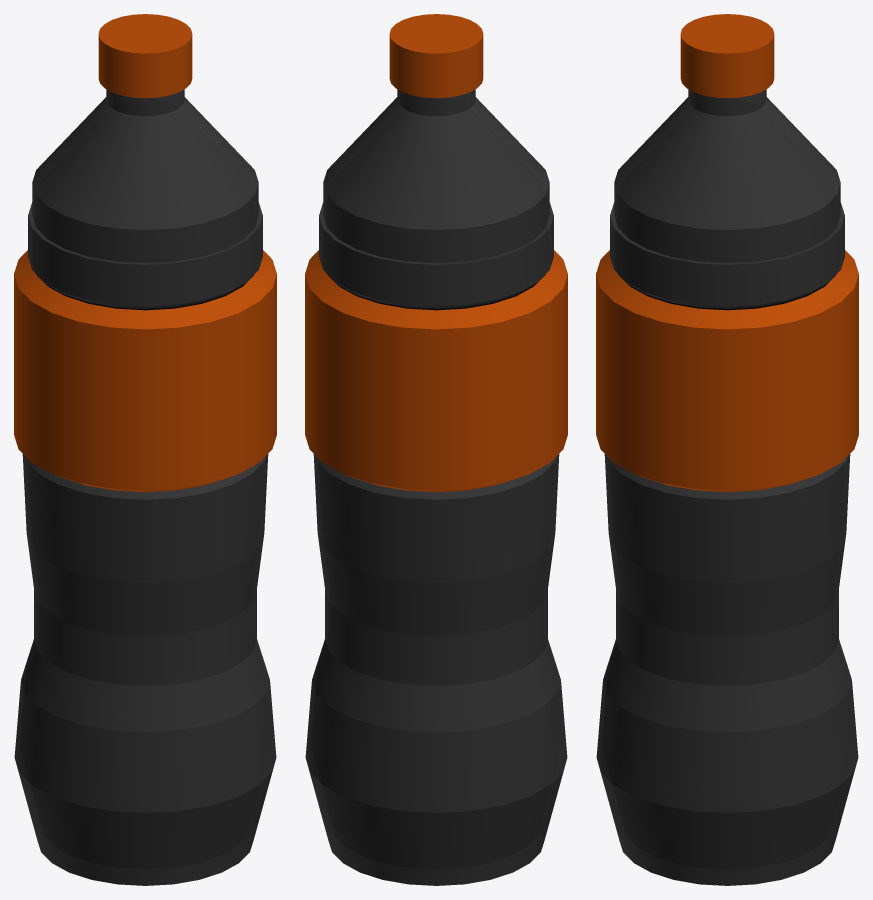
File: Soft Drink.fbx
3 renders of one model, left to right at view 1: azimuth 30°, elevation 25°; view 2: azimuth 150°, elevation 25°; view 3: azimuth 270°, elevation 25°, orthographic.
Parts seen in each view (by area): view 1: Group1; view 2: Group1; view 3: Group1.
Part boxes in pixels (x1,y1,x2,y2): Group1: (14,14,276,885); Group1: (305,14,567,885); Group1: (596,14,858,885).
Size of the model in its own units: 2.9 by 10.01 by 2.9.
